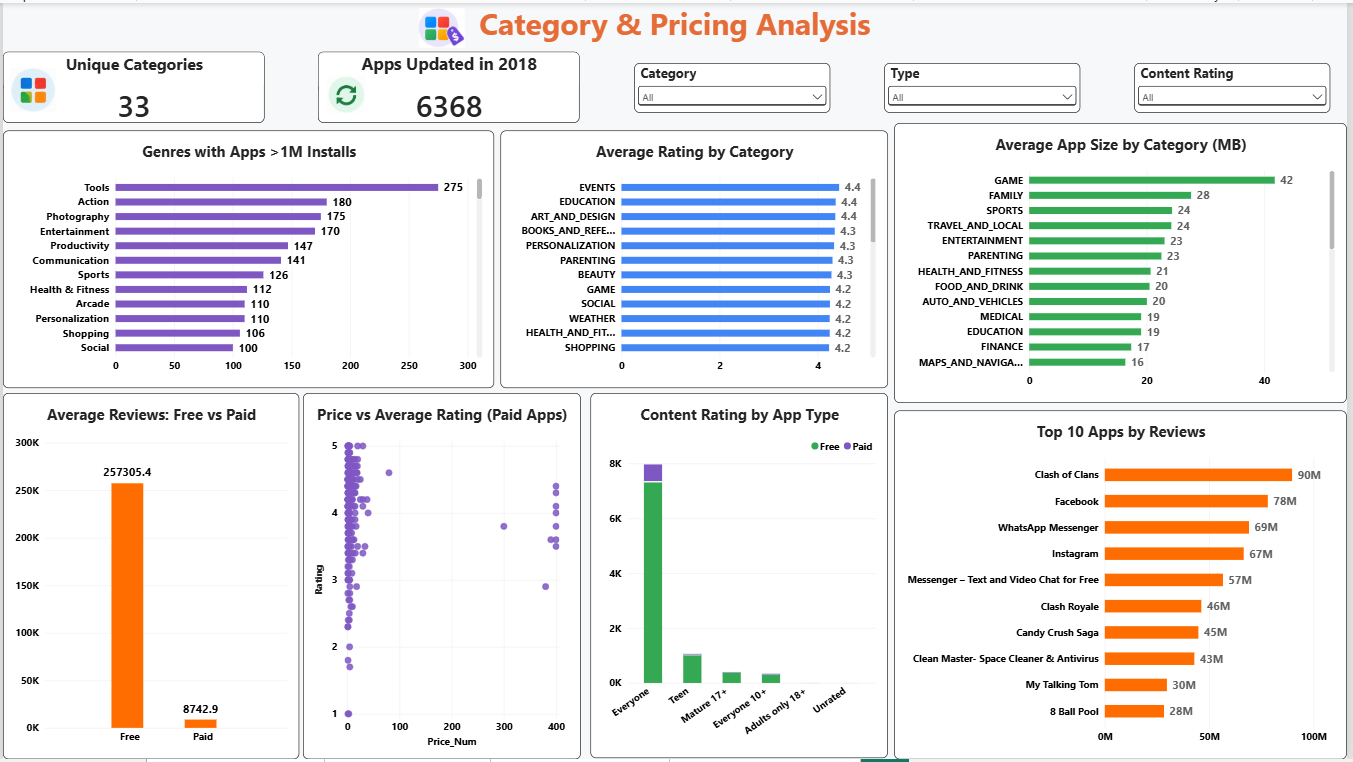

This screenshot's page, from the dashboard's own definition file:
{"tool":"powerbi","page":{"name":"Category & Pricing","canvas":[1920,1080],"ordinal":2},"visuals":[{"type":"textbox","box":[0,0,1919.7,69.6],"z":0},{"type":"cardVisual","title":"Unique Categories","fields":{"Data":["Count(Apps.Category)"]},"box":[0,69.6,373.2,101.8],"z":1000},{"type":"cardVisual","title":"Apps Updated in 2018","fields":{"Data":["CountNonNull(Apps.App)"]},"box":[450.4,69.6,373.2,101.8],"z":2000},{"type":"clusteredColumnChart","title":"Average Reviews: Free vs Paid","fields":{"Category":["Apps.Type"],"Y":["Avg(Apps.Reviews)"]},"box":[0,557.1,423.2,523.2],"z":3000},{"type":"clusteredBarChart","title":"Average Rating by Category","fields":{"Category":["Apps.Category"],"Y":["Avg(Apps.Rating)"]},"box":[710.7,182.1,553.6,367.9],"z":4000},{"type":"clusteredBarChart","title":"Average App Size by Category (MB)","fields":{"Category":["Apps.Category"],"Y":["Avg(Apps.Size_MB)"]},"box":[1273.2,171.4,646.4,400],"z":5000},{"type":"scatterChart","title":"Price vs Rating (Paid Apps)","fields":{"Y":["Apps.Rating"],"X":["Apps.Price_Num"]},"box":[428.6,557.1,396.4,523.2],"z":6000},{"type":"clusteredBarChart","title":"Genres with Apps >1M Installs","fields":{"Category":["Apps.Genres"],"Y":["CountNonNull(Apps.App)"]},"box":[0,182.1,701.8,367.9],"z":7000},{"type":"clusteredBarChart","title":"Top 10 Apps by Reviews","fields":{"Category":["Apps.App"],"Y":["Sum(Apps.Reviews)"]},"box":[1273.2,582.1,646.4,498.2],"z":8000},{"type":"columnChart","title":"Content Rating by App Type","fields":{"Category":["Apps.Content Rating"],"Y":["CountNonNull(Apps.App)"],"Series":["Apps.Type"]},"box":[839.3,557.1,425,521.4],"z":9000},{"type":"slicer","fields":{"Values":["Apps.Category"]},"box":[900.9,85.7,280.4,71.4],"z":10000},{"type":"slicer","fields":{"Values":["Apps.Type"]},"box":[1258.5,85.7,280.4,71.4],"z":11000},{"type":"slicer","fields":{"Values":["Apps.Content Rating"]},"box":[1616.1,85.7,280.4,71.4],"z":12000},{"type":"image","box":[0,92.9,87.5,64.3],"z":13000},{"type":"image","box":[450,105.4,82.1,51.8],"z":14000},{"type":"image","box":[526.8,7.1,200,57.1],"z":15000}]}

Visuals, with their boxes in screenshot pixels (x1, y1, x2, y2), scaled from the page's 1920x1080 canvas onto the 1353x762 screenshot:
textbox: {"left": 0, "top": 0, "right": 1352, "bottom": 49}
"Unique Categories" cardVisual: {"left": 0, "top": 49, "right": 263, "bottom": 121}
"Apps Updated in 2018" cardVisual: {"left": 317, "top": 49, "right": 580, "bottom": 121}
"Average Reviews: Free vs Paid" clusteredColumnChart: {"left": 0, "top": 393, "right": 298, "bottom": 761}
"Average Rating by Category" clusteredBarChart: {"left": 501, "top": 128, "right": 891, "bottom": 388}
"Average App Size by Category (MB)" clusteredBarChart: {"left": 897, "top": 121, "right": 1352, "bottom": 403}
"Price vs Rating (Paid Apps)" scatterChart: {"left": 302, "top": 393, "right": 581, "bottom": 761}
"Genres with Apps >1M Installs" clusteredBarChart: {"left": 0, "top": 128, "right": 495, "bottom": 388}
"Top 10 Apps by Reviews" clusteredBarChart: {"left": 897, "top": 411, "right": 1352, "bottom": 761}
"Content Rating by App Type" columnChart: {"left": 591, "top": 393, "right": 891, "bottom": 761}
slicer - Apps.Category: {"left": 635, "top": 60, "right": 832, "bottom": 111}
slicer - Apps.Type: {"left": 887, "top": 60, "right": 1084, "bottom": 111}
slicer - Apps.Content Rating: {"left": 1139, "top": 60, "right": 1336, "bottom": 111}
image: {"left": 0, "top": 66, "right": 62, "bottom": 111}
image: {"left": 317, "top": 74, "right": 375, "bottom": 111}
image: {"left": 371, "top": 5, "right": 512, "bottom": 45}
